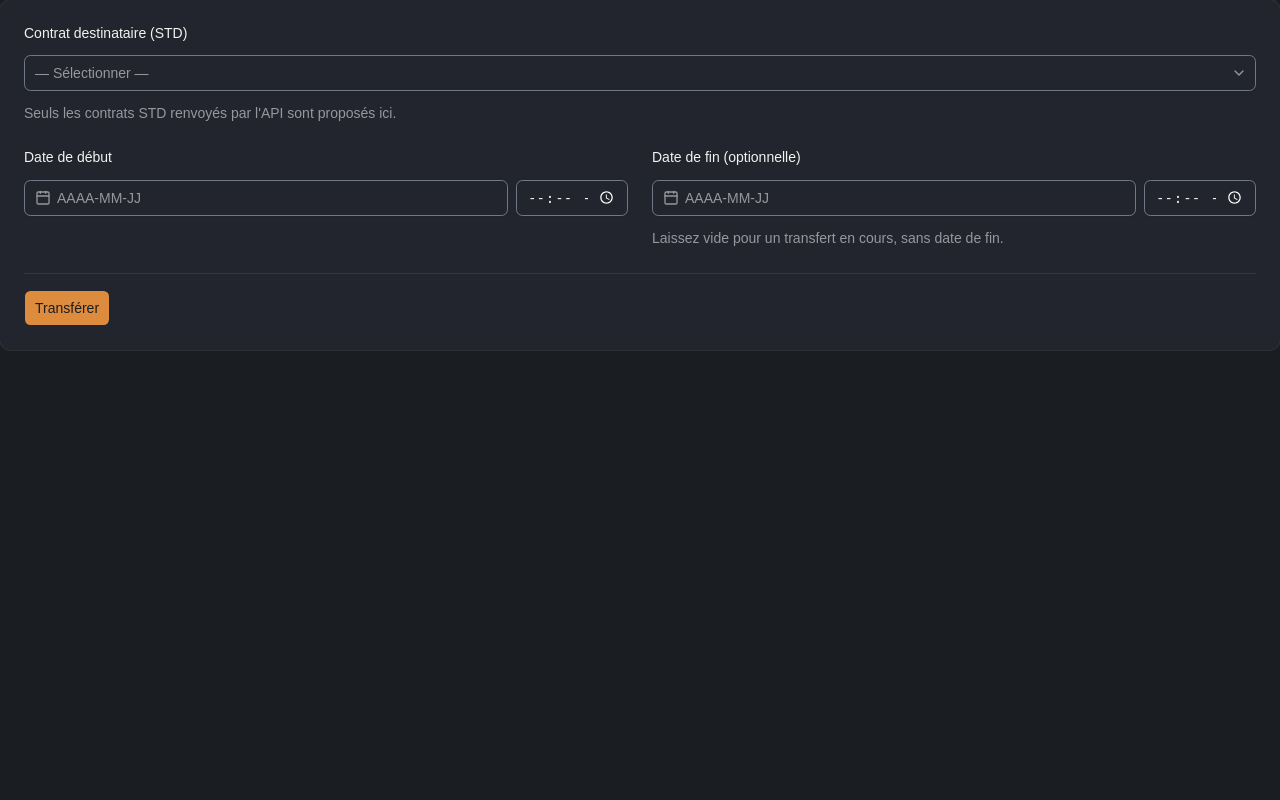
Test: TransferForm (KAN-169 FR14-FR17) › surfaces the API's own rejection message verbatim (FR17, e.g. overlap)
Check: the form with test id "transfer-form" is shown, box [24,24,1256,326]
What coordinates should you click on to do the following:
click the dropdown with test id "transfer-field-target"
I would click on:
 (92, 73)
Its box is [24,55,1256,91].
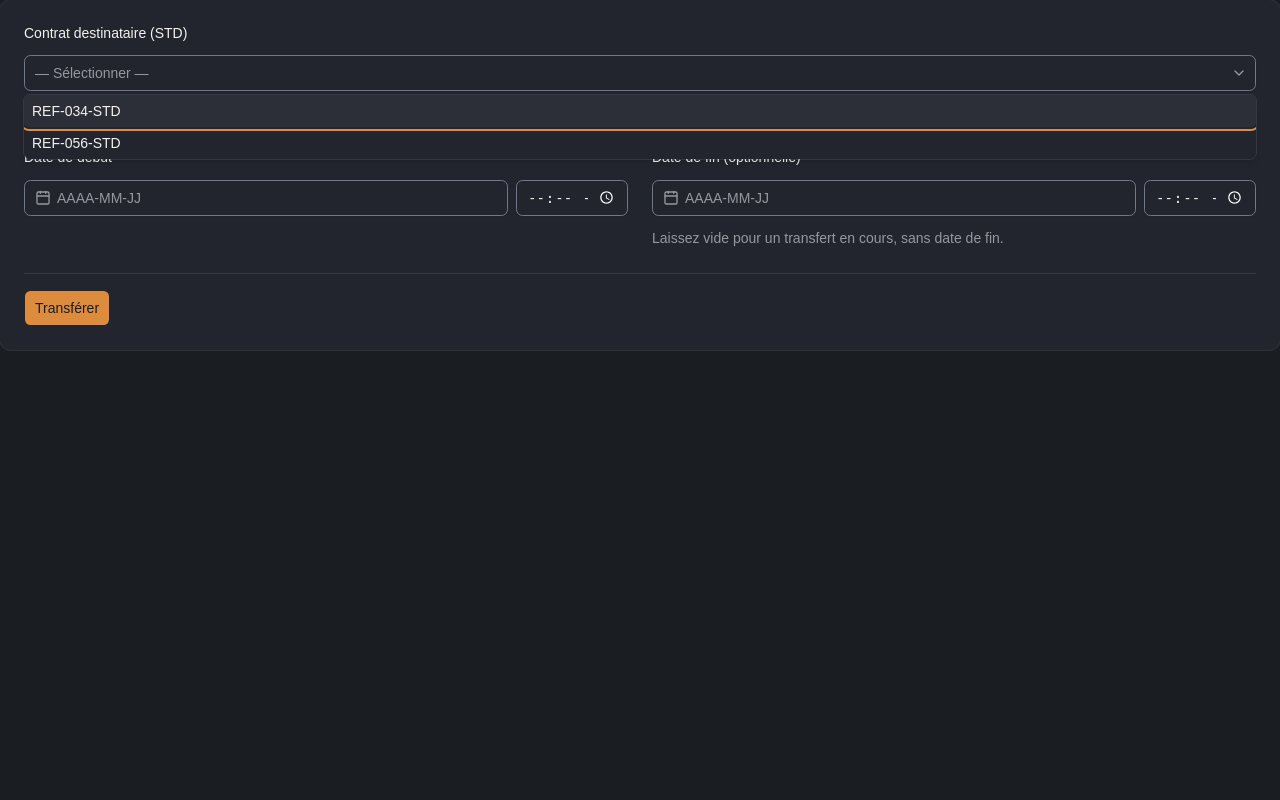
What coordinates should you click on to do the following:
click the option with test id "transfer-target-option-34"
I would click on:
 (76, 111)
Its box is [24,95,1256,127].
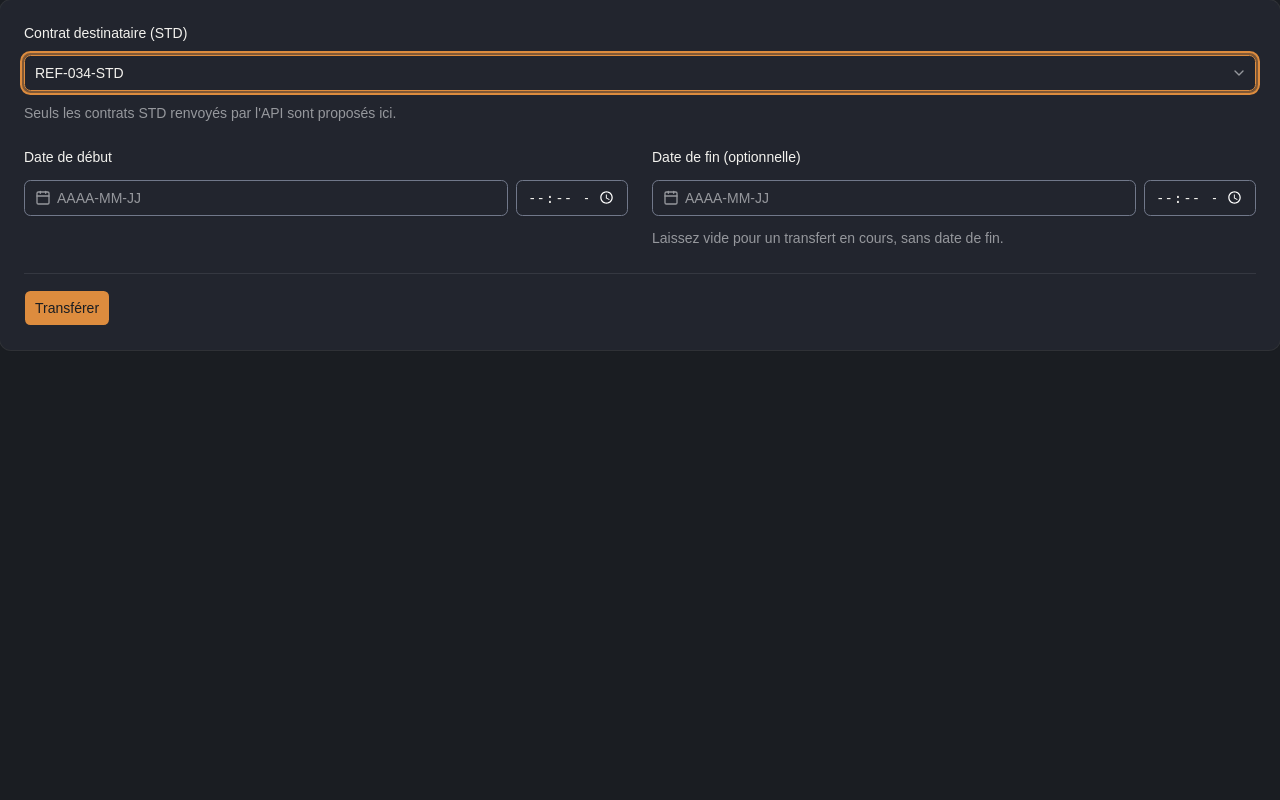
What coordinates should you click on to do the following:
click the button "AAAA-MM-JJ" below "Date de début"
I would click on:
 (99, 198)
Its box is [24,180,508,216].
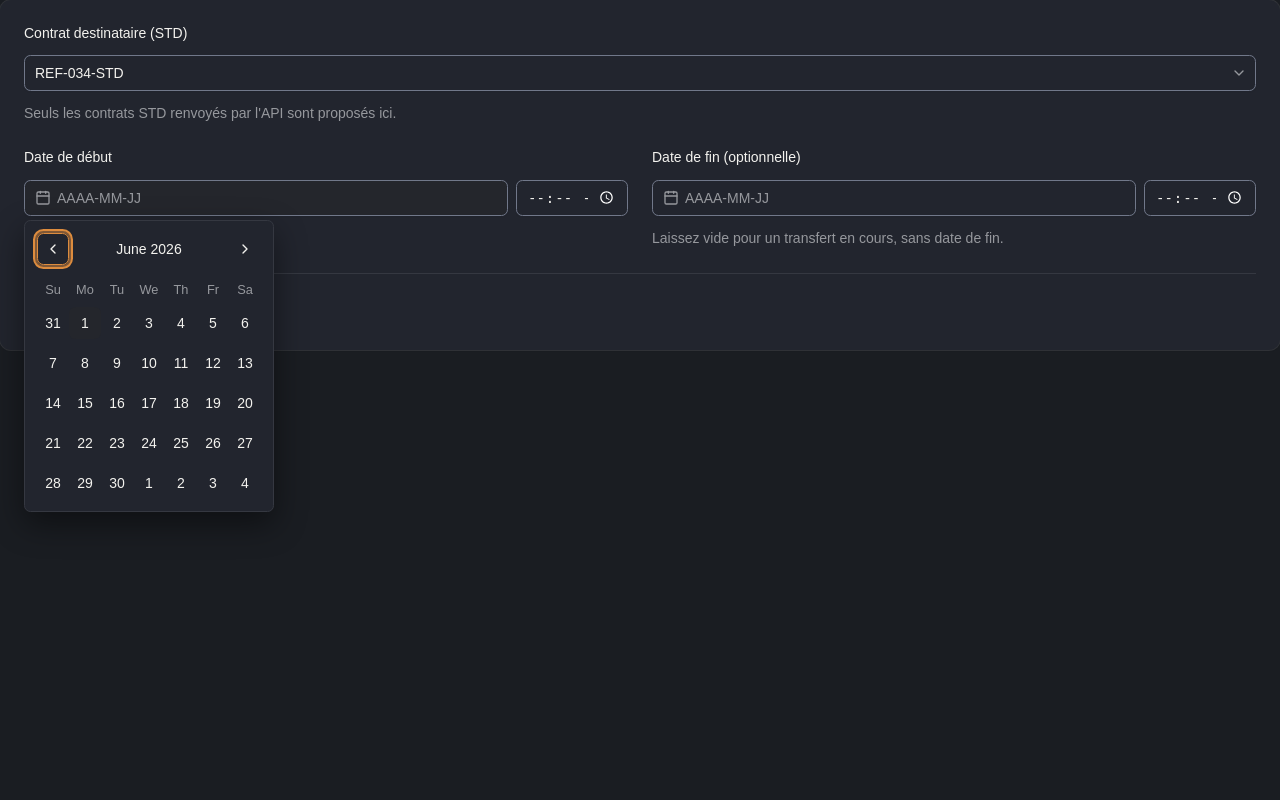
What coordinates should you click on to do the following:
click the button "10"
I would click on:
 (149, 363)
Its box is [133,347,165,379].
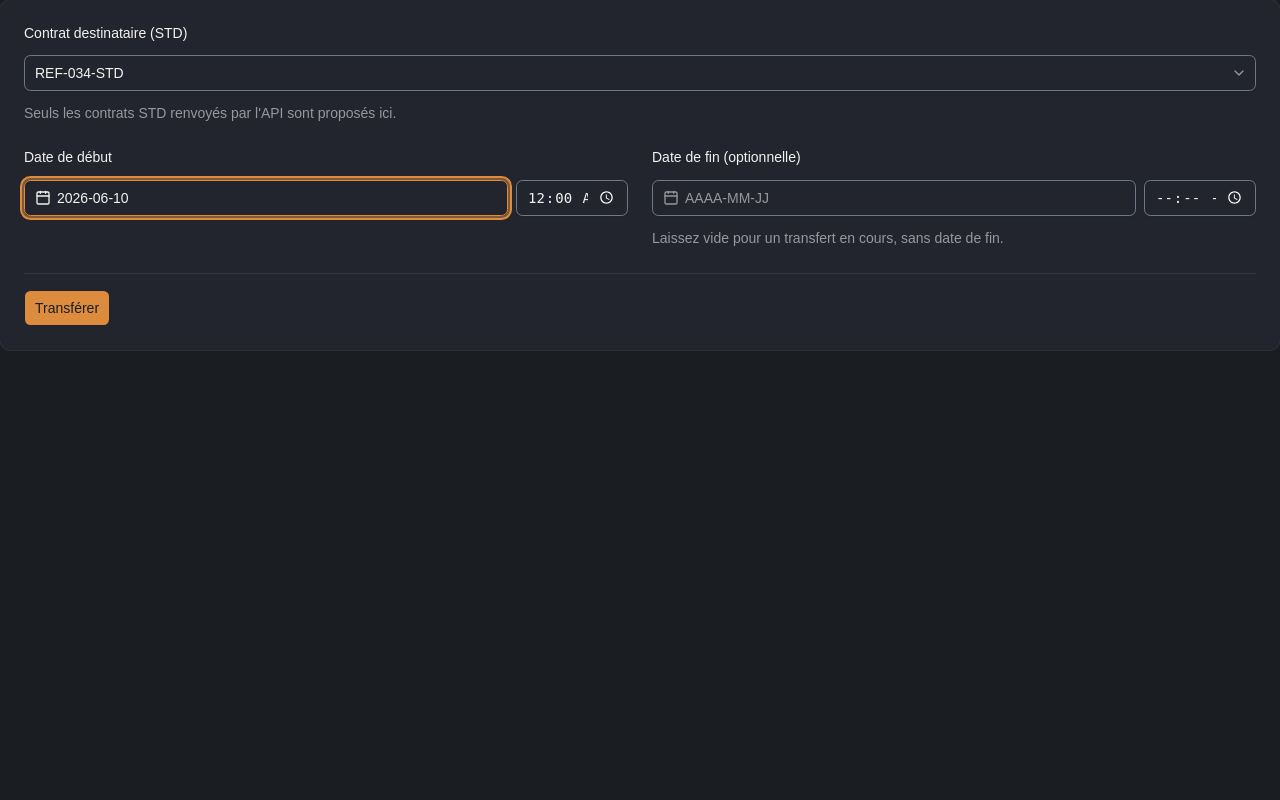
What coordinates should you click on to do the following:
click the button with test id "transfer-form-submit"
I would click on:
 (67, 308)
Its box is [24,290,110,326].
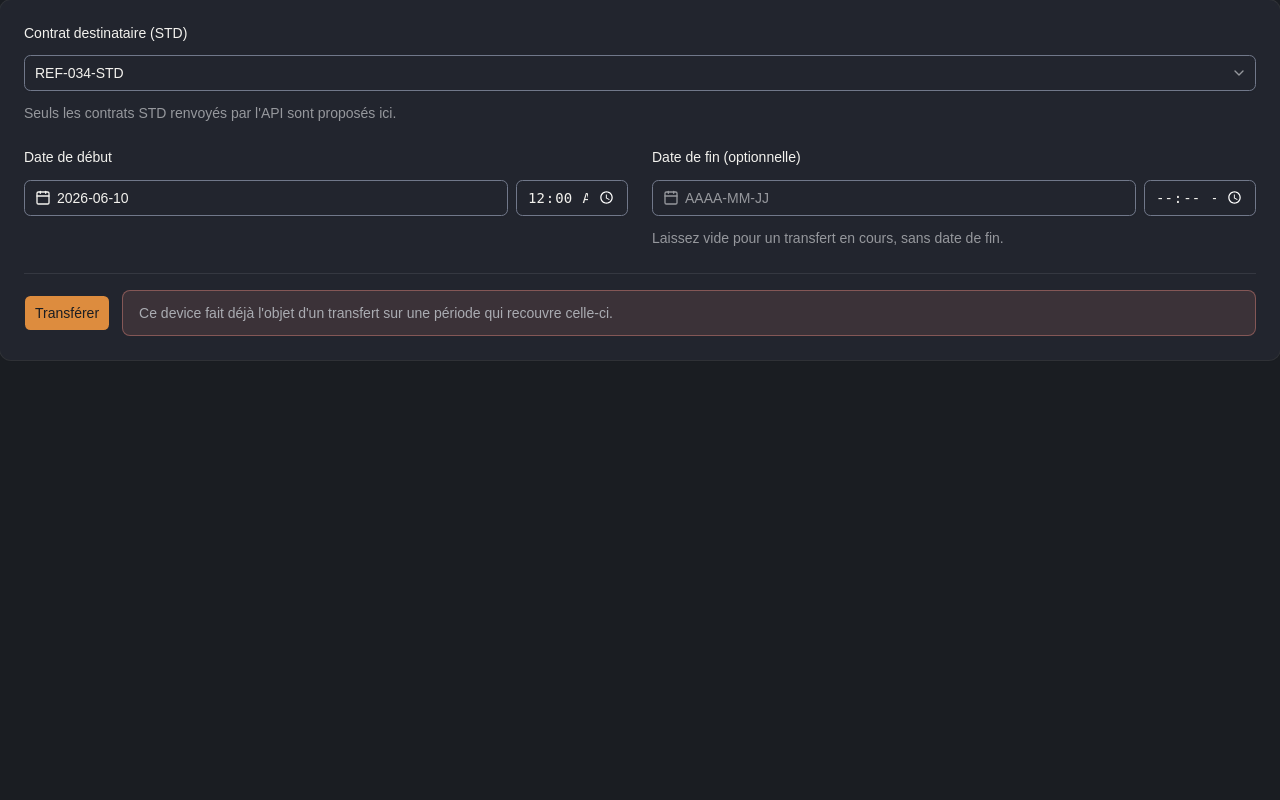
Check: the message with test id "transfer-flash-ko" shows "Ce device fait déjà l'objet d'un transfert", box [139,304,613,320]
